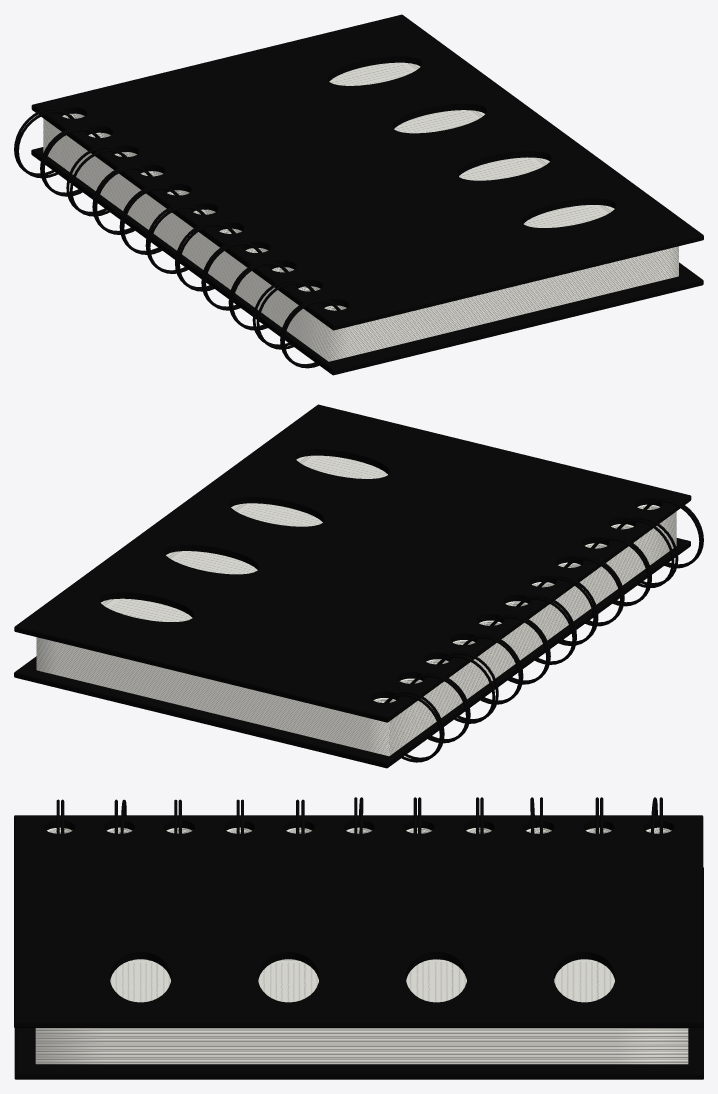
File: book.glb
The picture shows the model from 3 angles, top to bottom: view 1: azimuth 30°, elevation 25°; view 2: azimuth 150°, elevation 25°; view 3: azimuth 270°, elevation 25°; orthographic projection. The views are drawn at different scales.
Parts seen in each view (by area): view 1: front cover, back cover, Spring, page.061, page.016, page.031, page.044, page.048, page.042, page.050, page.054, page.034 (+40 smaller); view 2: front cover, back cover, Spring, page.061, page.023, page.025, page.056, page.054, page.013, page.031, page.040, page.042 (+44 smaller); view 3: front cover, back cover, page.061, Spring, page.016, page.021, page.039, page.045, page.050, page.027, page.028, page.056 (+43 smaller).
Part boxes in pixels (x1=…): front cover: x1=31, y1=14, x2=703, y2=330; back cover: x1=31, y1=147, x2=703, y2=375; Spring: x1=14, y1=108, x2=340, y2=368; page.061: x1=81, y1=62, x2=614, y2=307; page.016: x1=43, y1=124, x2=678, y2=333; page.031: x1=43, y1=134, x2=678, y2=343; page.044: x1=43, y1=142, x2=678, y2=351; page.048: x1=43, y1=145, x2=678, y2=353; page.042: x1=43, y1=141, x2=678, y2=350; page.050: x1=43, y1=146, x2=678, y2=355; page.054: x1=43, y1=149, x2=678, y2=357; page.034: x1=43, y1=136, x2=678, y2=345; front cover: x1=14, y1=404, x2=691, y2=722; back cover: x1=14, y1=538, x2=690, y2=768; Spring: x1=384, y1=498, x2=703, y2=762; page.061: x1=101, y1=455, x2=659, y2=701; page.023: x1=36, y1=522, x2=676, y2=732; page.025: x1=36, y1=523, x2=676, y2=733; page.056: x1=36, y1=543, x2=676, y2=753; page.054: x1=36, y1=542, x2=676, y2=752; page.013: x1=36, y1=515, x2=676, y2=726; page.031: x1=36, y1=527, x2=676, y2=737; page.040: x1=36, y1=533, x2=676, y2=743; page.042: x1=36, y1=534, x2=676, y2=744; front cover: x1=14, y1=815, x2=703, y2=1027; back cover: x1=14, y1=867, x2=703, y2=1079; page.061: x1=47, y1=827, x2=665, y2=1002; Spring: x1=56, y1=797, x2=662, y2=833; page.016: x1=35, y1=1031, x2=688, y2=1032; page.021: x1=35, y1=1035, x2=688, y2=1036; page.039: x1=35, y1=1048, x2=688, y2=1049; page.045: x1=35, y1=1052, x2=688, y2=1053; page.050: x1=35, y1=1056, x2=688, y2=1057; page.027: x1=35, y1=1039, x2=687, y2=1040; page.028: x1=36, y1=1040, x2=688, y2=1041; page.056: x1=35, y1=1060, x2=687, y2=1061.
Bounding box in the file's own units: 2.54 × 0.3976 × 3.27.
3 materials, 1 textured.
